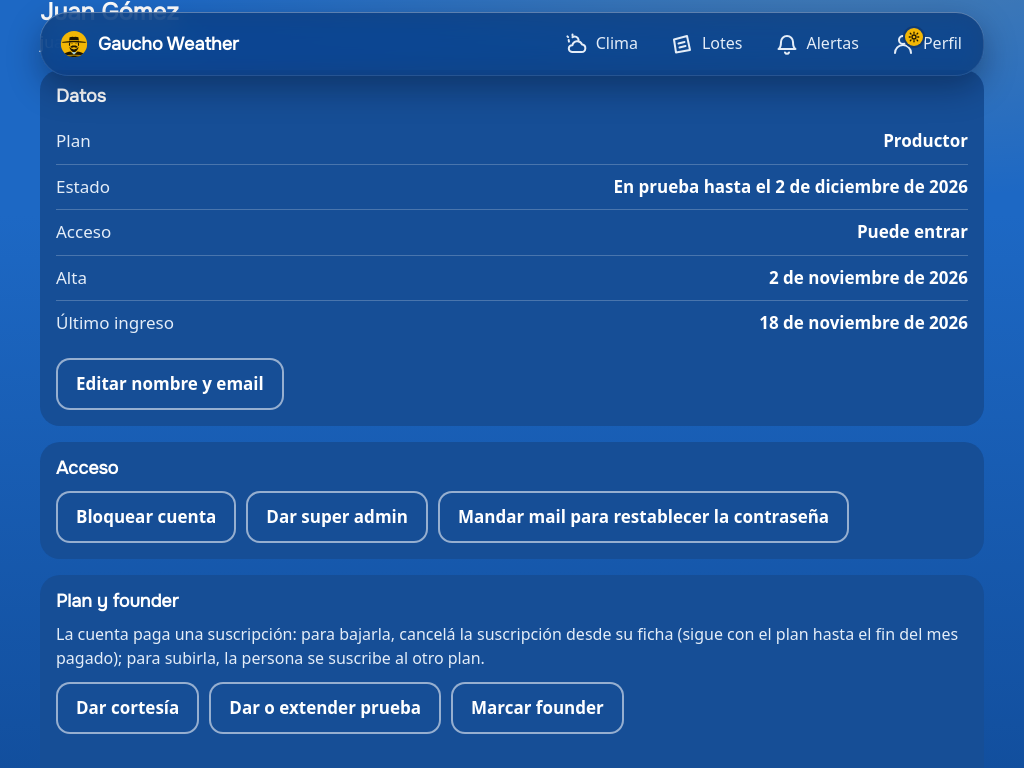
Scenario: The account record (S1) › shows an email in use next to the field
(page scrolled)
Step 1. Click the button "Editar nombre y email" → click(170, 384), box left=56, top=358, right=284, bottom=410
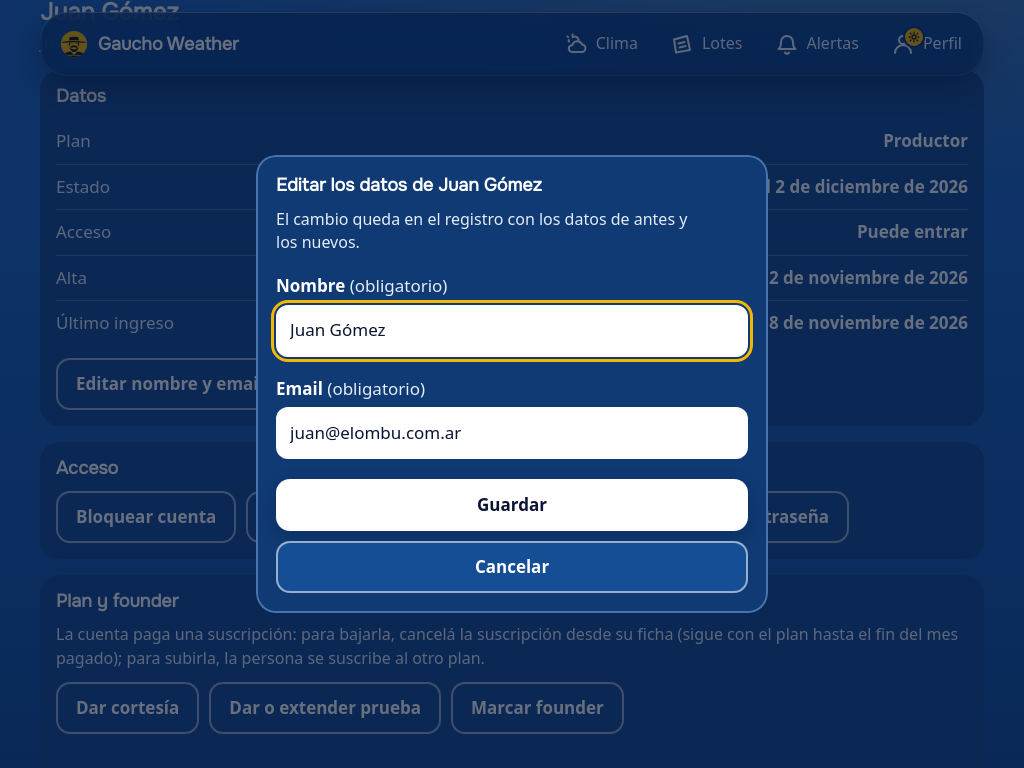
Step 2. Replace the text in the field labelled "Email (obligatorio)" with "MARTA@sancayetano.com.ar" → (512, 433), box left=276, top=407, right=748, bottom=459
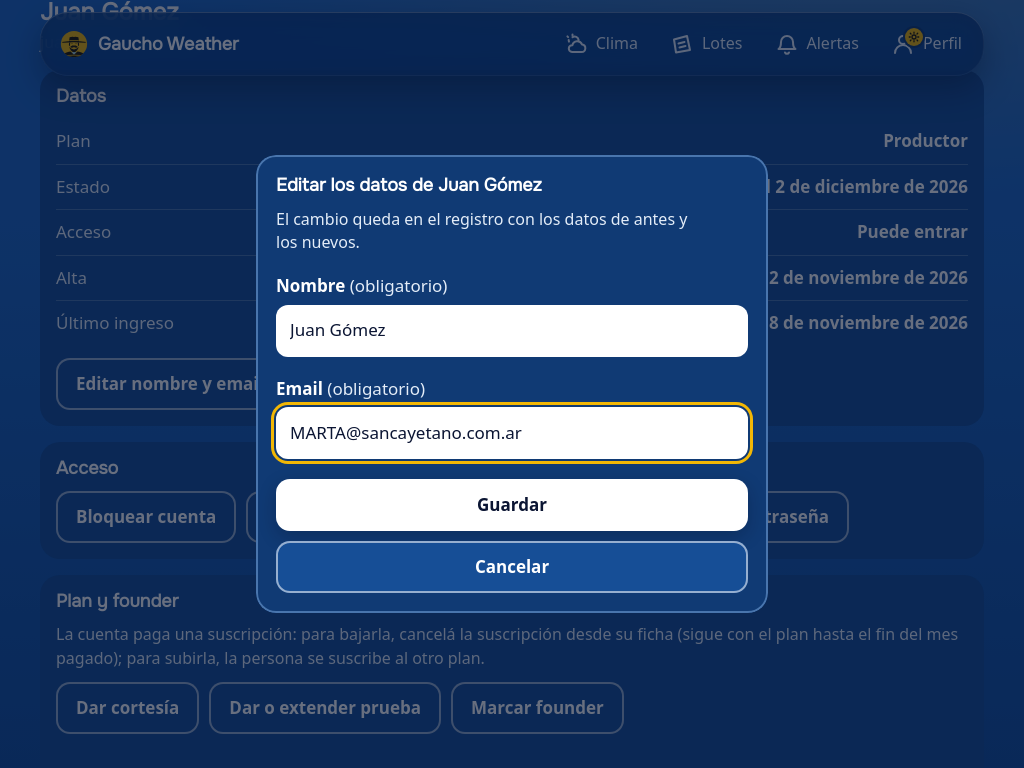
Step 3. Click the button "Guardar" → click(512, 505), box left=276, top=479, right=748, bottom=531
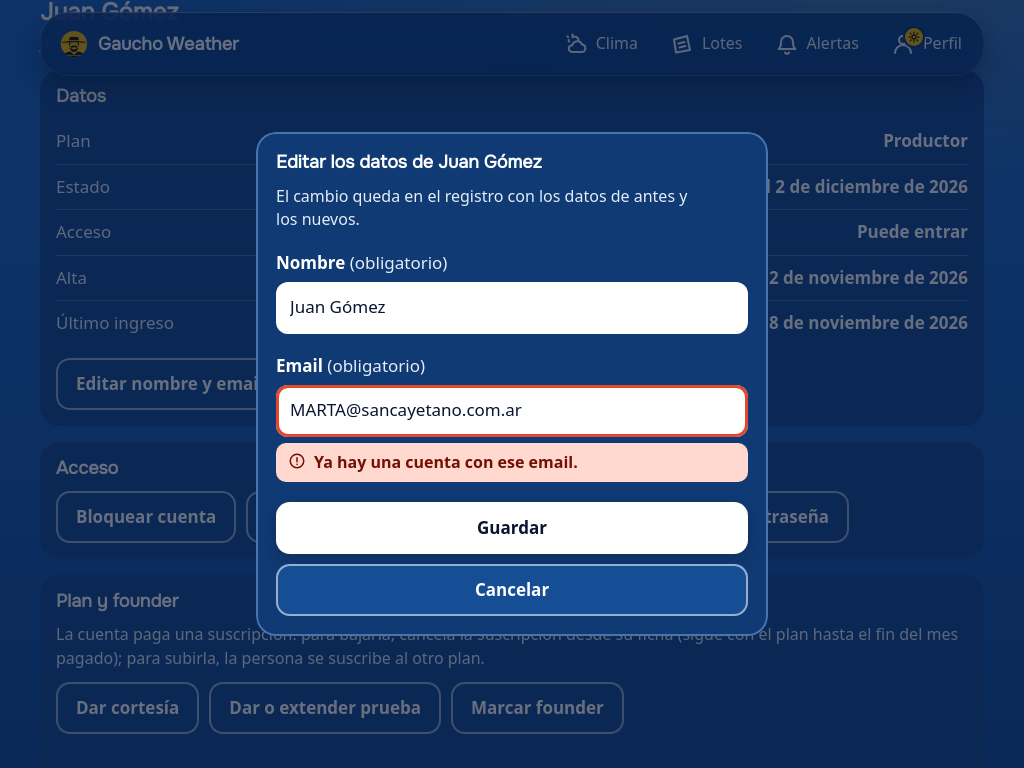
Now the text "Ya hay una cuenta con ese email." is shown, box left=276, top=443, right=748, bottom=482
